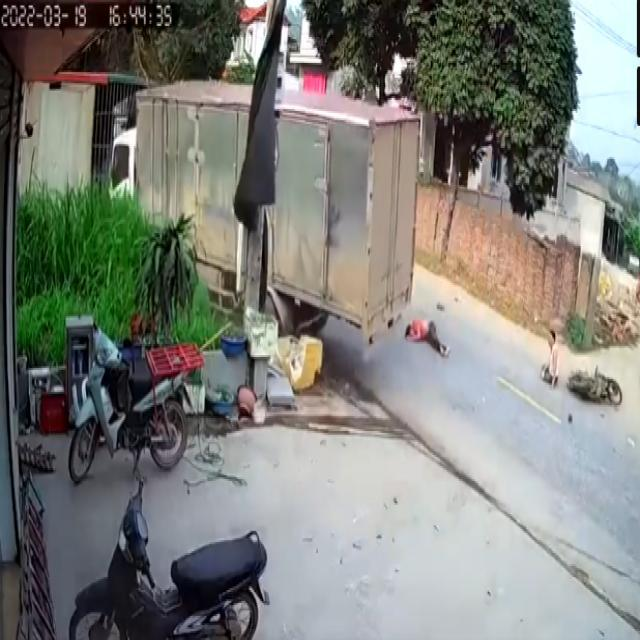multiple_accident: (104, 76, 452, 364), (537, 324, 625, 414)
